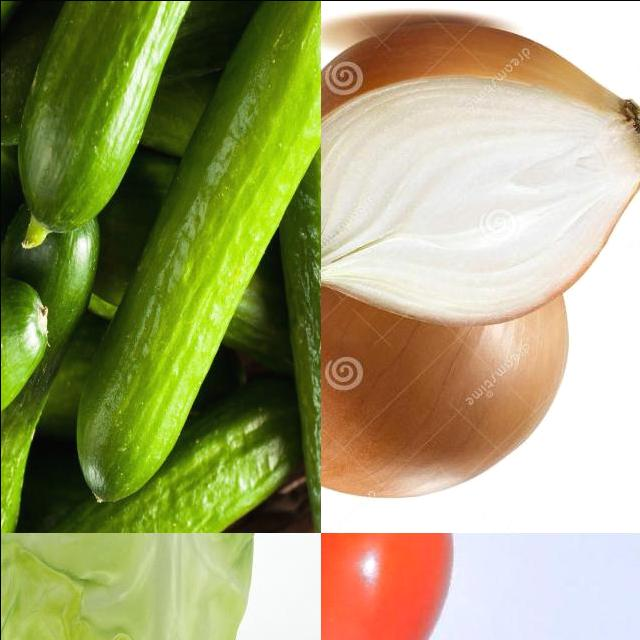cabbage: (1, 533, 270, 640)
cucumber: (78, 1, 321, 509), (17, 1, 233, 243), (27, 393, 303, 533), (1, 213, 103, 533), (1, 1, 75, 320)
onion: (321, 17, 640, 330), (321, 147, 569, 533)
tomato: (321, 533, 469, 640)
